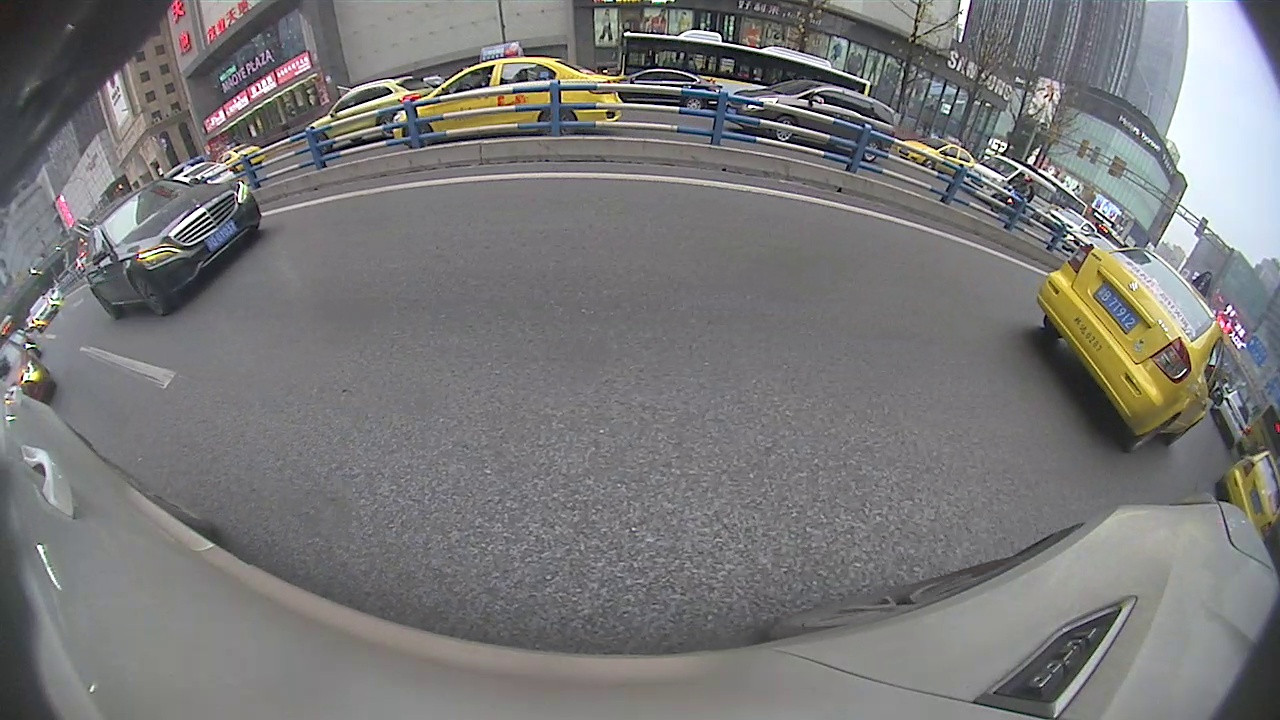bus: (615, 26, 873, 126)
car: (1033, 241, 1233, 455), (82, 172, 263, 321), (389, 40, 626, 150), (721, 76, 900, 167), (303, 75, 446, 155)
front: (128, 273, 168, 318), (402, 121, 434, 150), (773, 117, 798, 142)
rear: (541, 106, 578, 138), (860, 138, 884, 164)
